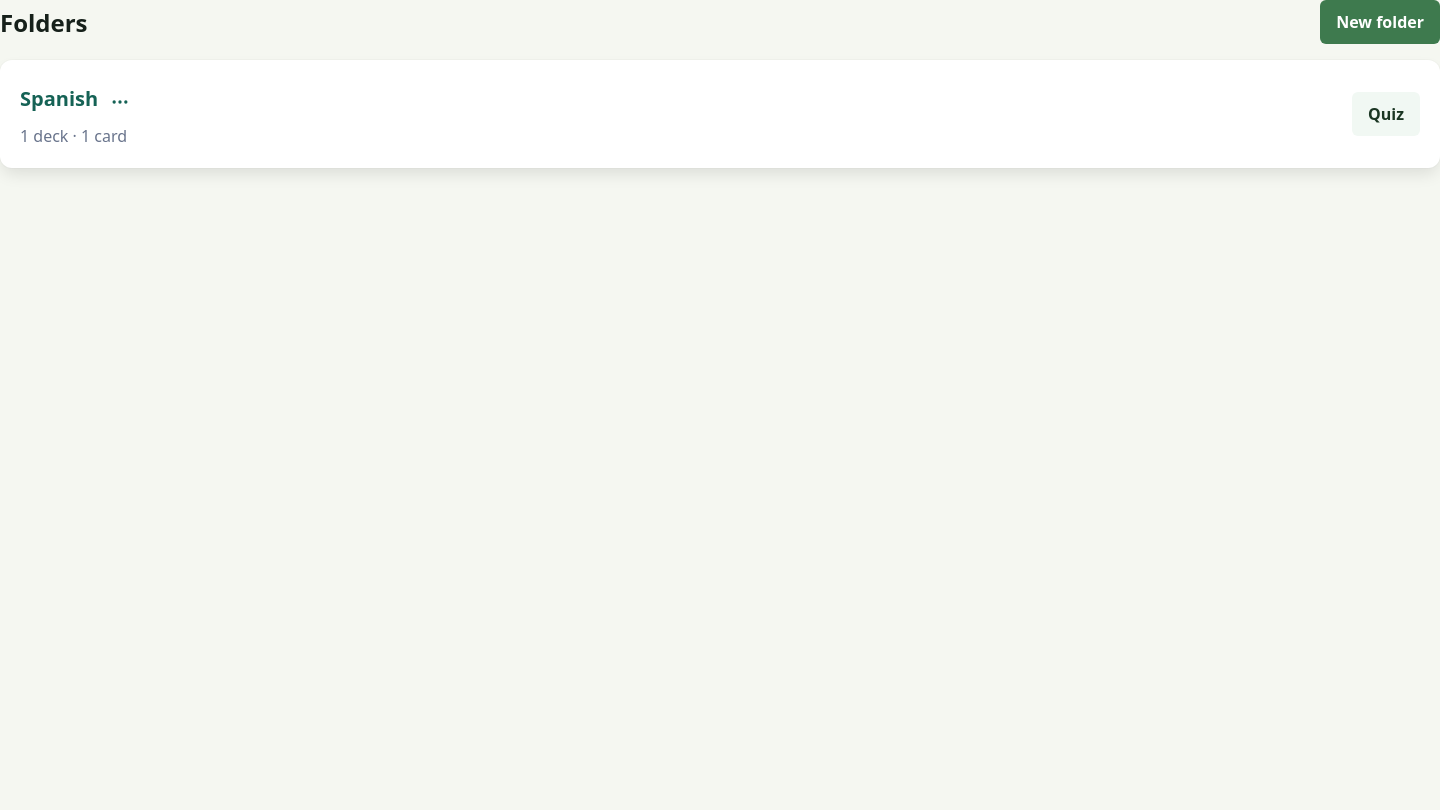
it: FoldersView › names the deck and card counts before deleting a folder
Click the button with test id "folder-menu": (120, 102) [98, 80, 142, 124]
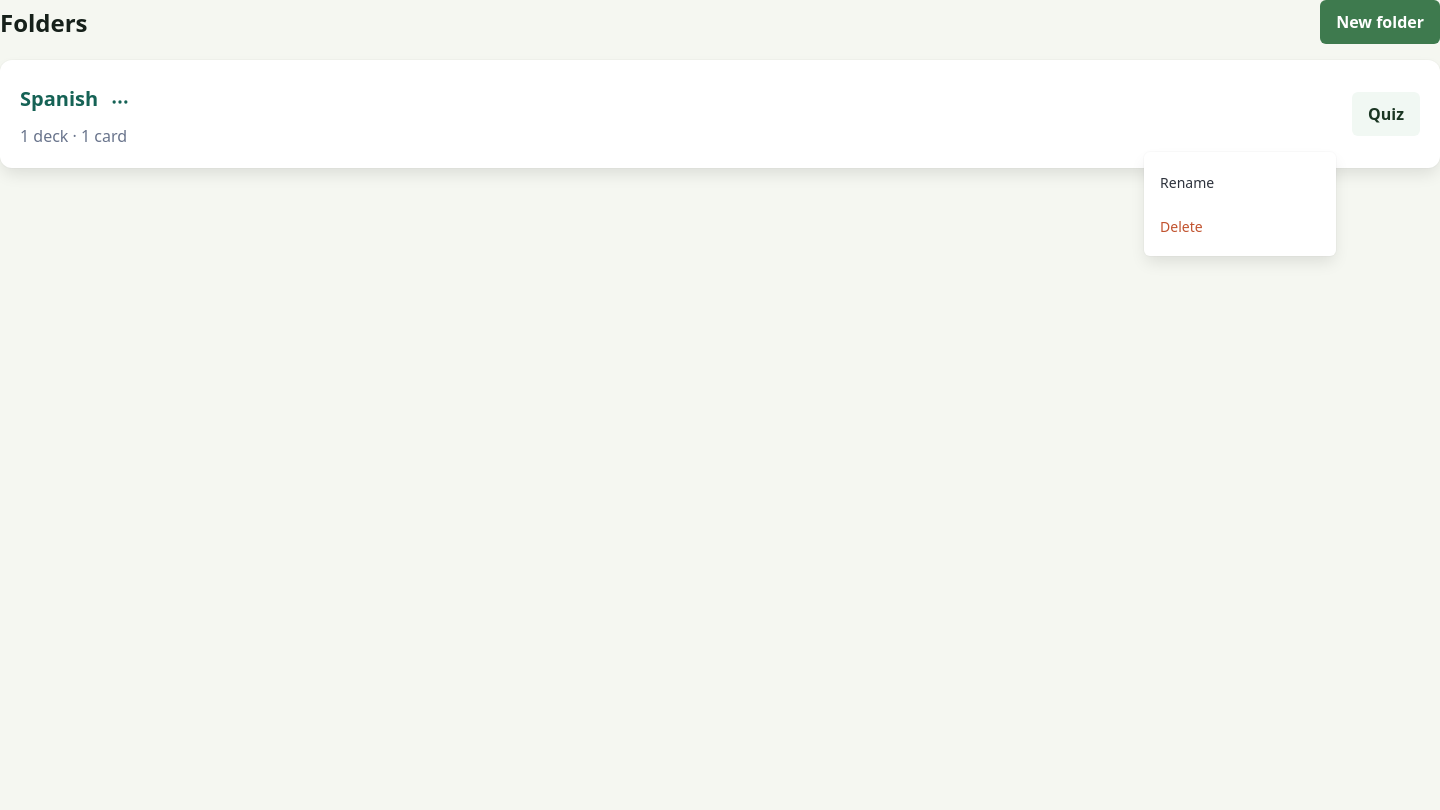
Click the button with test id "folder-delete": (1240, 226) [1144, 204, 1336, 248]
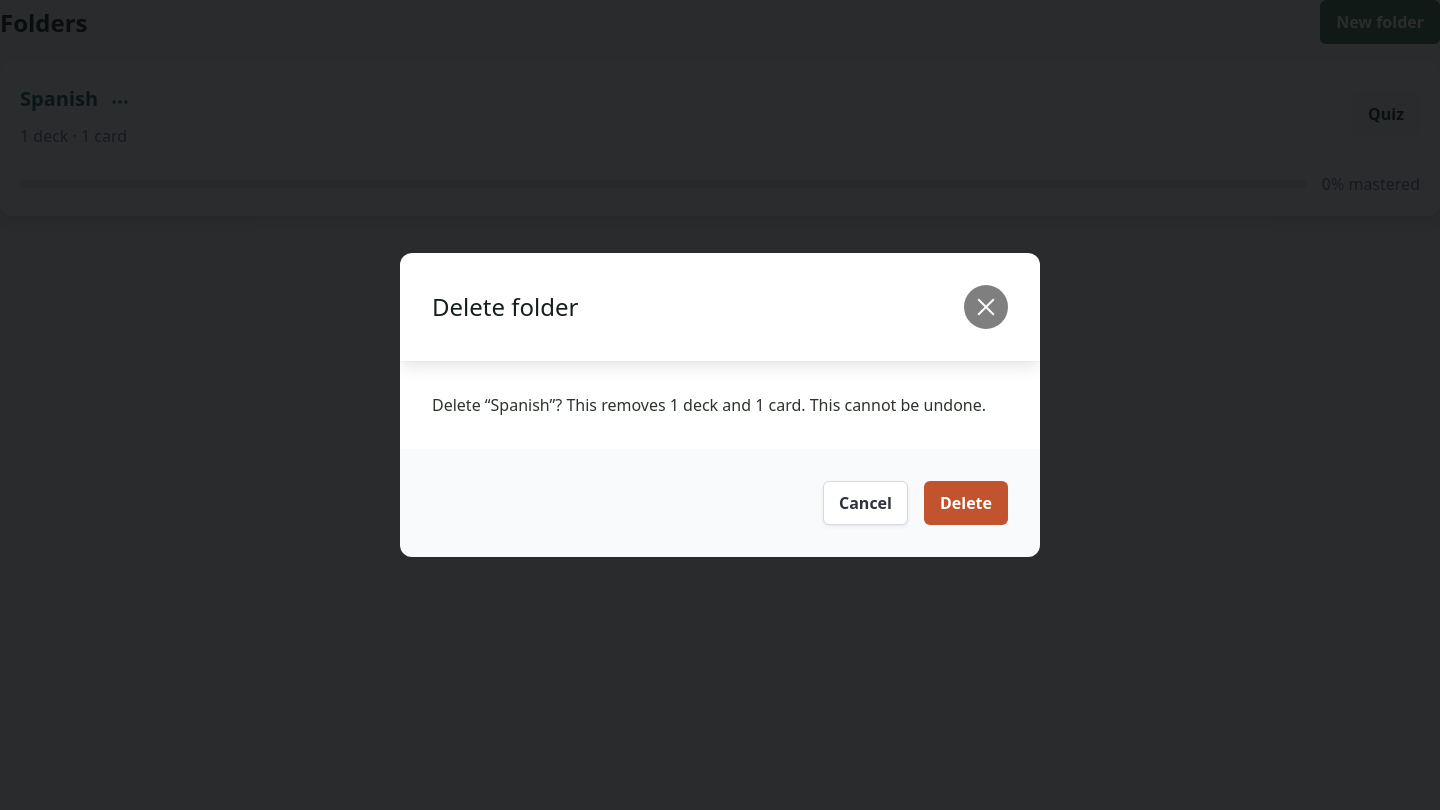
Now the text with test id "confirm-message" reads "Delete “Spanish”? This removes 1 deck and 1 card. This cannot be undone.", box [432, 394, 986, 416]
